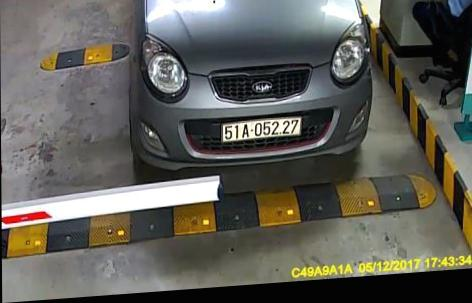License_Plate: (218, 111, 305, 145)
